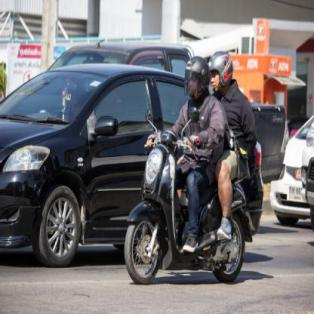Motocicleta: (123, 126, 250, 288)
